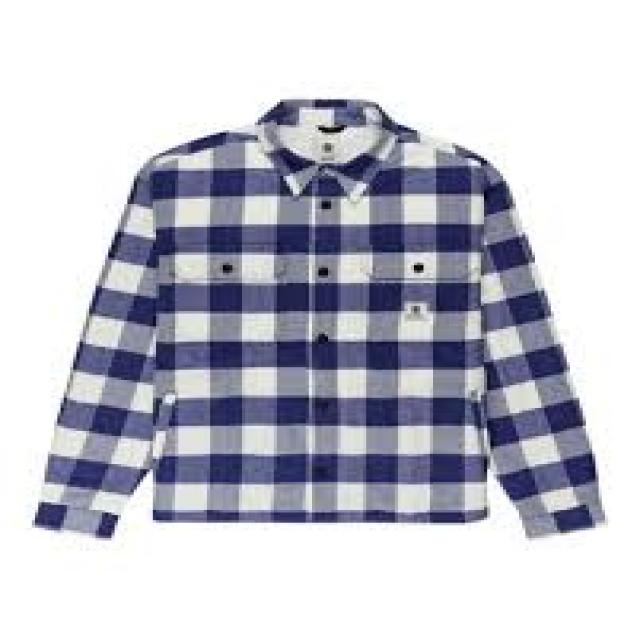plaid: (41, 102, 602, 555)
